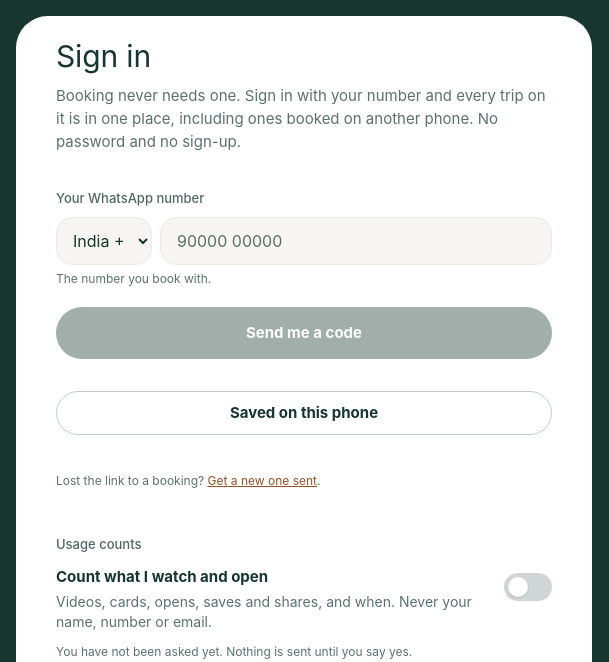
it: what it says when something goes wrong › names the code, on the code field, and offers the way out
In the field labelled "Your WhatsApp number": (356, 241) [160,217,552,265], type "9000000000"
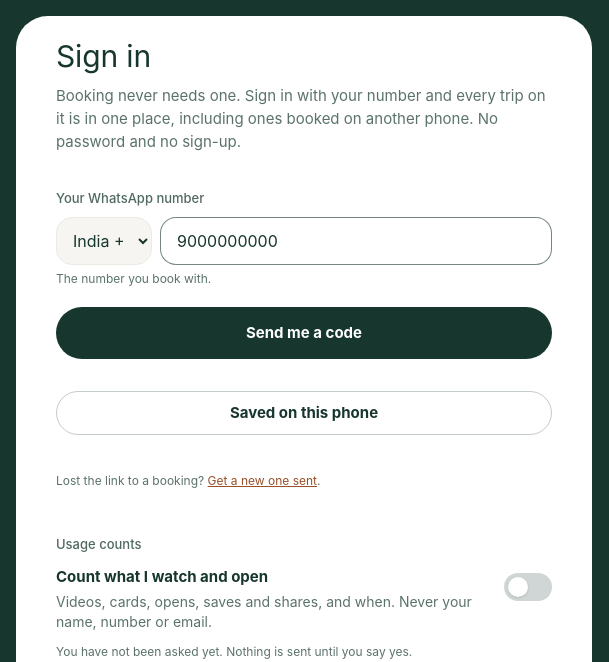
Click the button "Send me a code": (304, 333) [56,307,552,359]
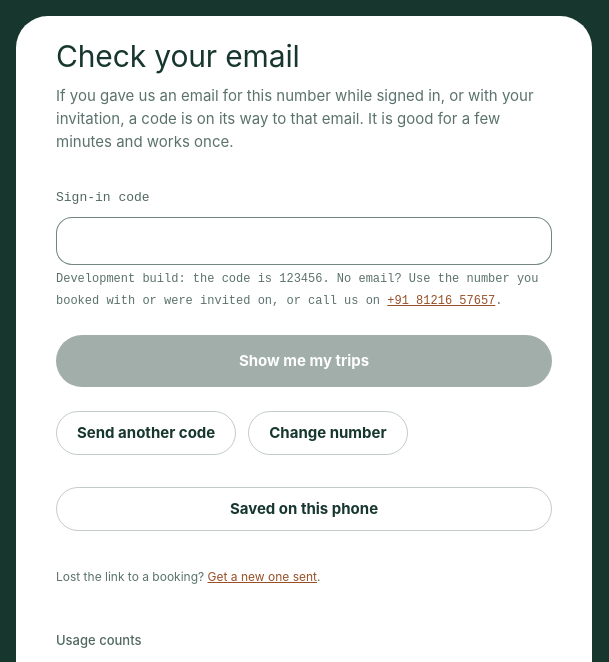
In the field labelled "Sign-in code": (304, 241) [56,217,552,265], type "000000"
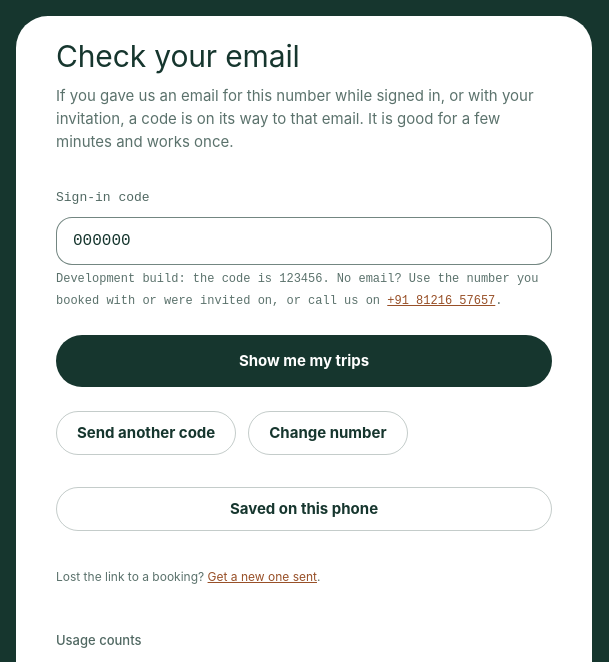
Click the button "Show me my trips": (304, 361) [56,335,552,387]
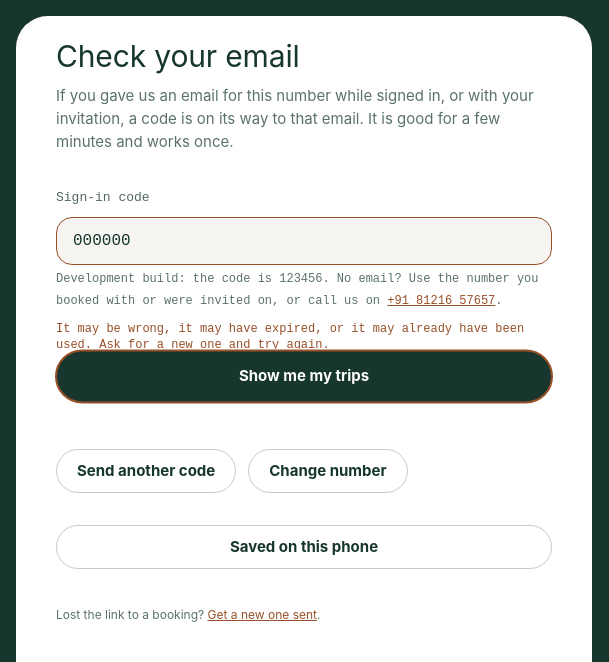
Check: the text "It may be wrong, it may have expired" is shown, box [56,322,524,352]
